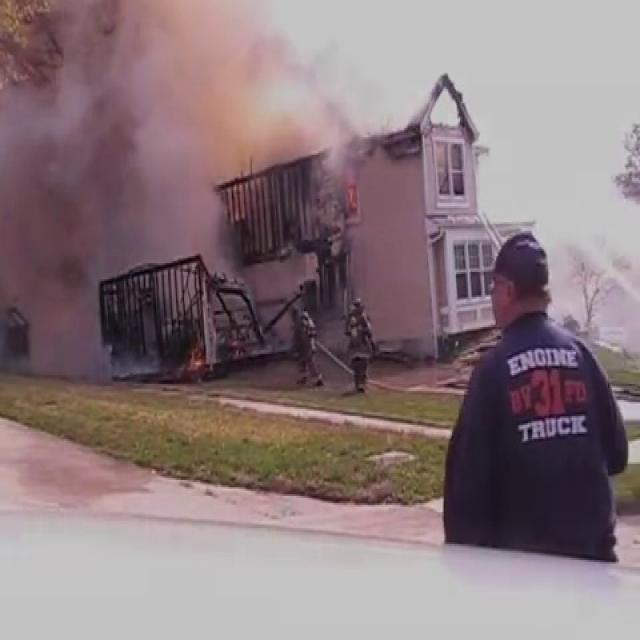Smoke: (0, 0, 344, 361)
